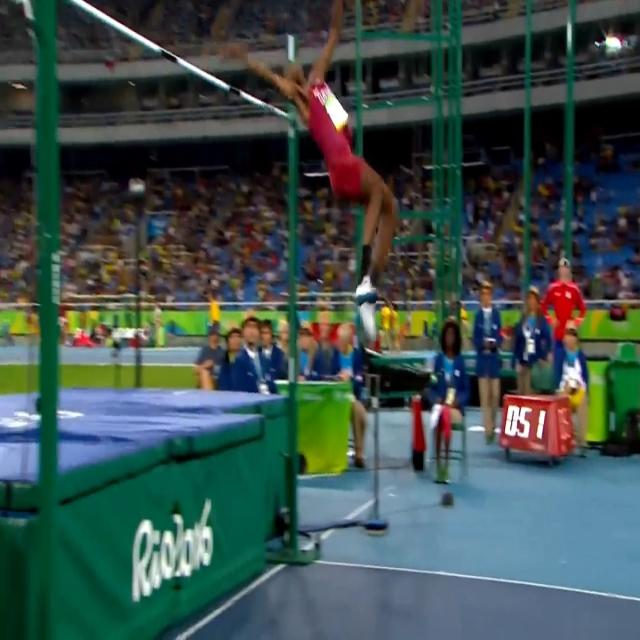jump: (247, 0, 398, 345)
